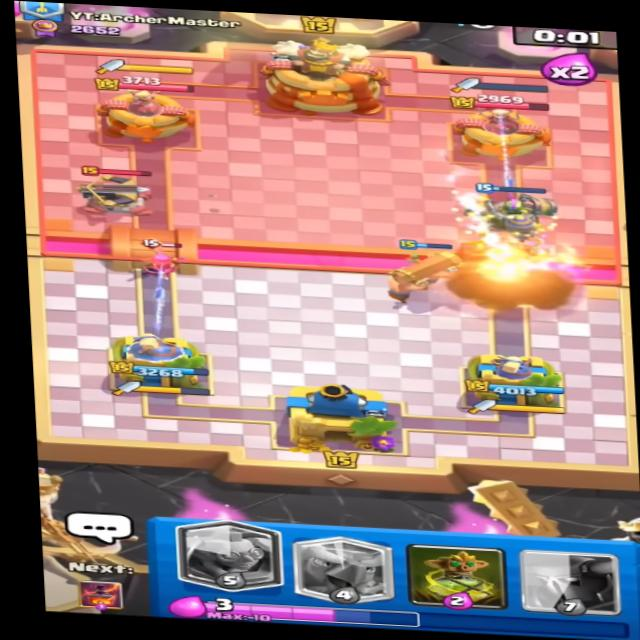evo-archers: (139, 242, 192, 282)
x-bow: (66, 161, 167, 224)
